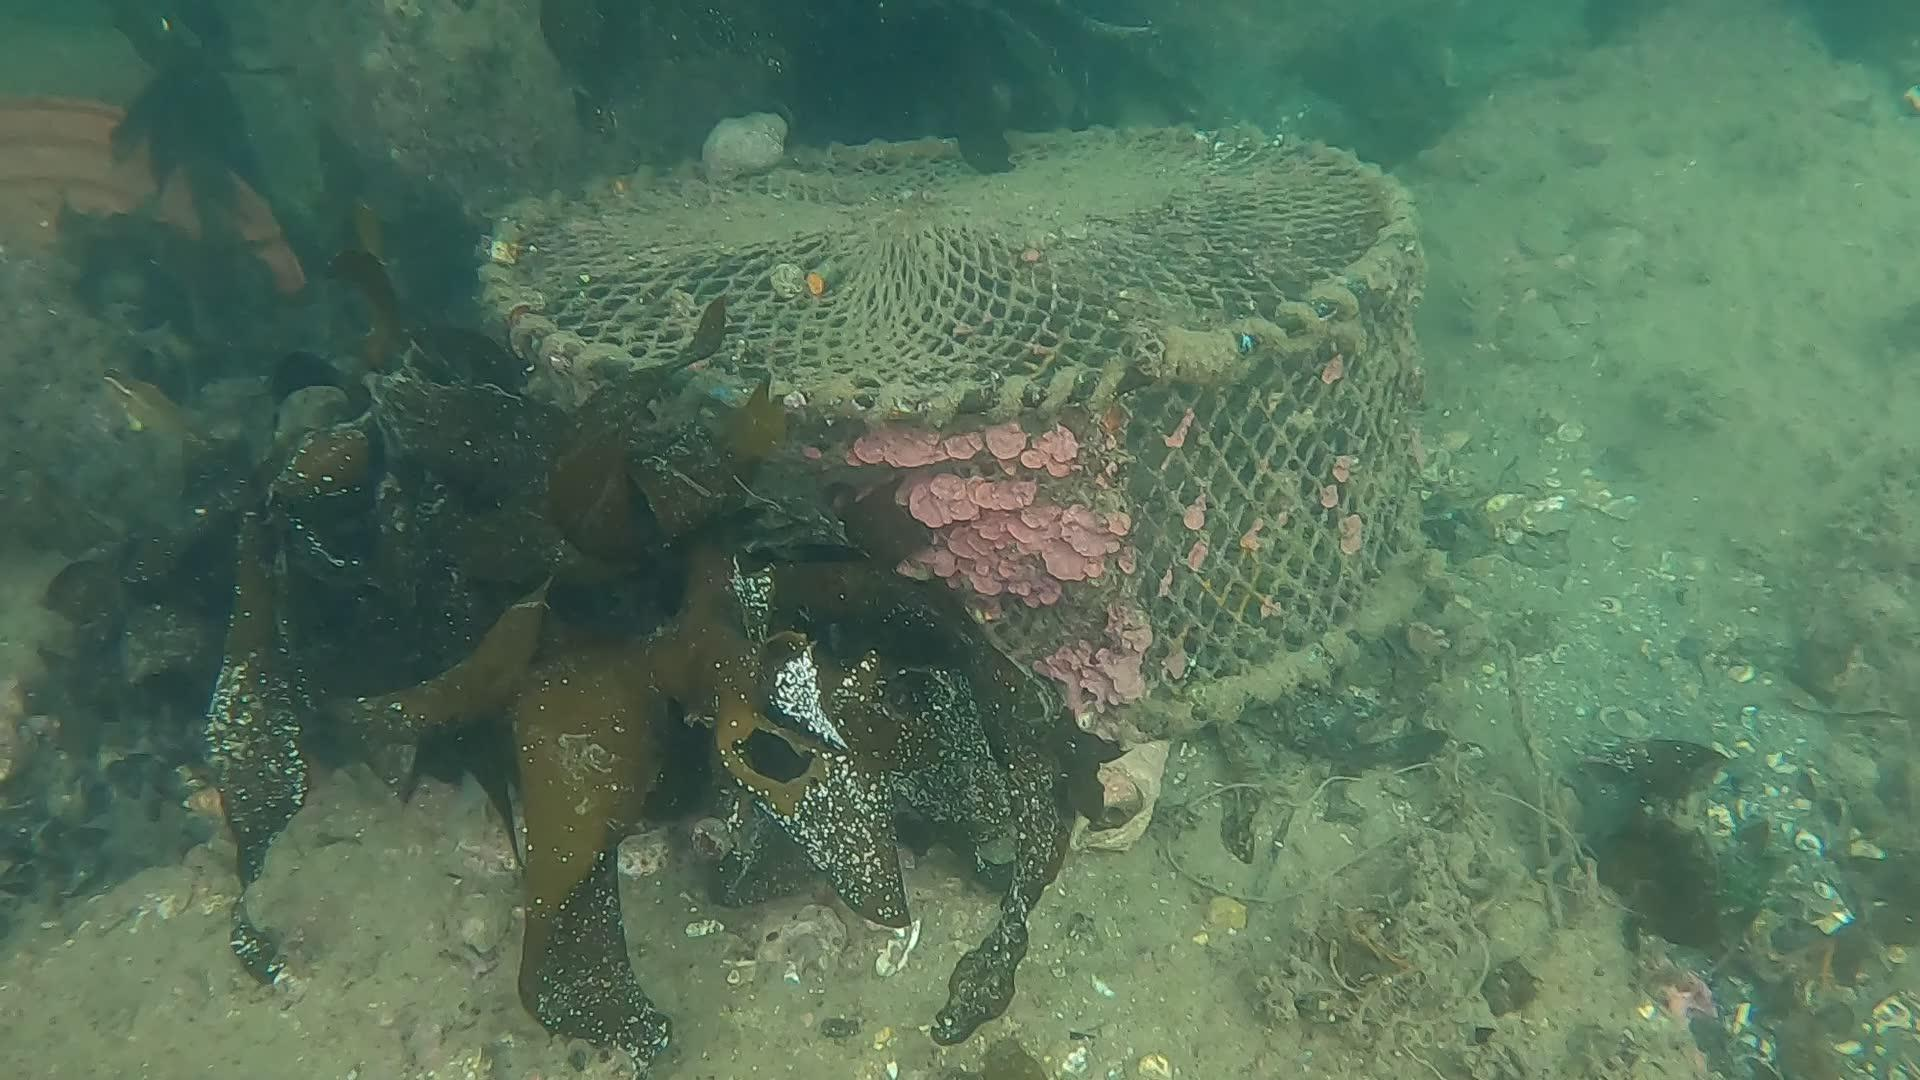circular fish trap: (468, 117, 1449, 738)
